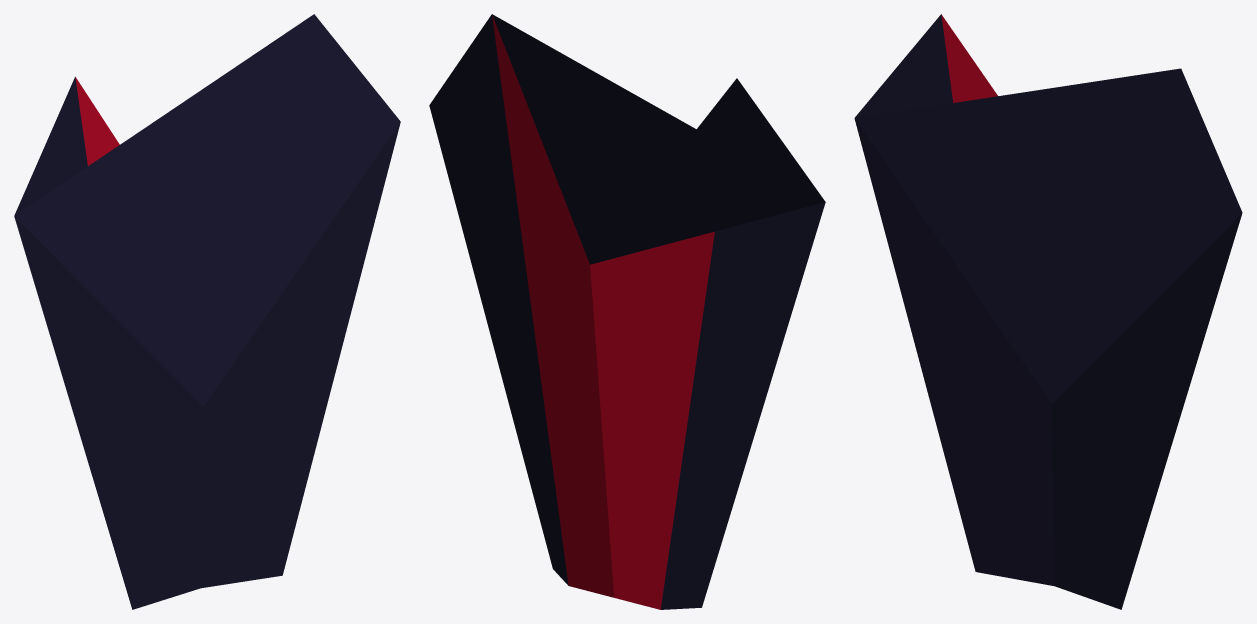
The model's file is escudo.fbx.
3 views of the same model, side by side, from view 1: azimuth 30°, elevation 25°; view 2: azimuth 150°, elevation 25°; view 3: azimuth 330°, elevation 25° (orthographic). The views are drawn at different scales.
Visible parts, largest first — view 1: Cylinder, Cylinder.001; view 2: Cylinder, Cylinder.001; view 3: Cylinder, Cylinder.001.
Boxes of the visible parts, x1,y1,x2,y2 form: Cylinder: [14, 14, 400, 609]; Cylinder.001: [75, 77, 119, 165]; Cylinder: [429, 14, 825, 609]; Cylinder.001: [492, 15, 714, 609]; Cylinder: [854, 14, 1242, 609]; Cylinder.001: [941, 14, 997, 102].
Bounding box in the file's own units: 429 × 572 × 71.56.
